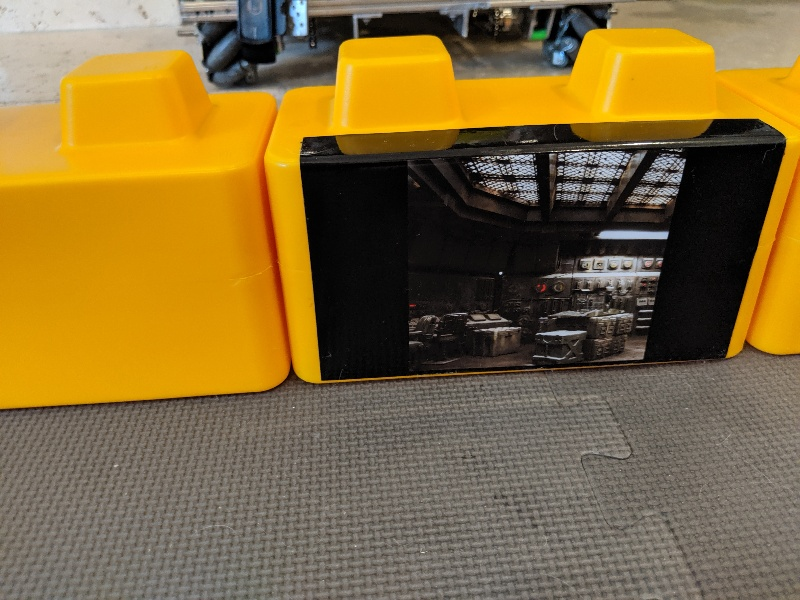Skystone: (287, 115, 792, 378)
